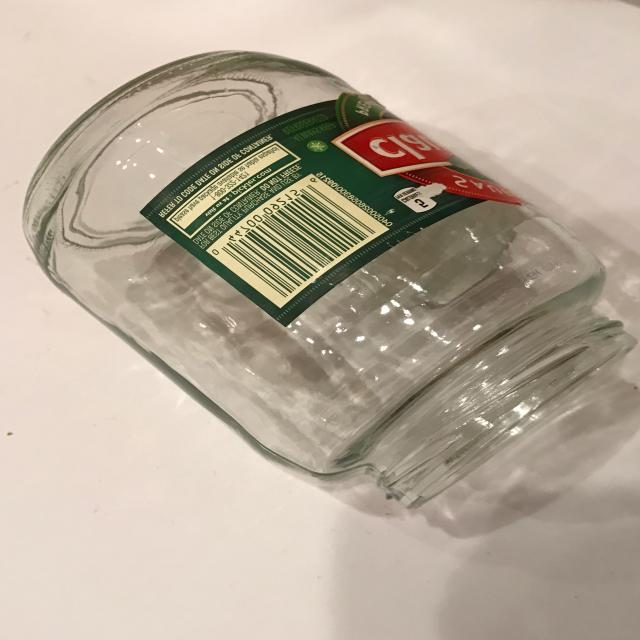glass: (21, 49, 638, 513)
